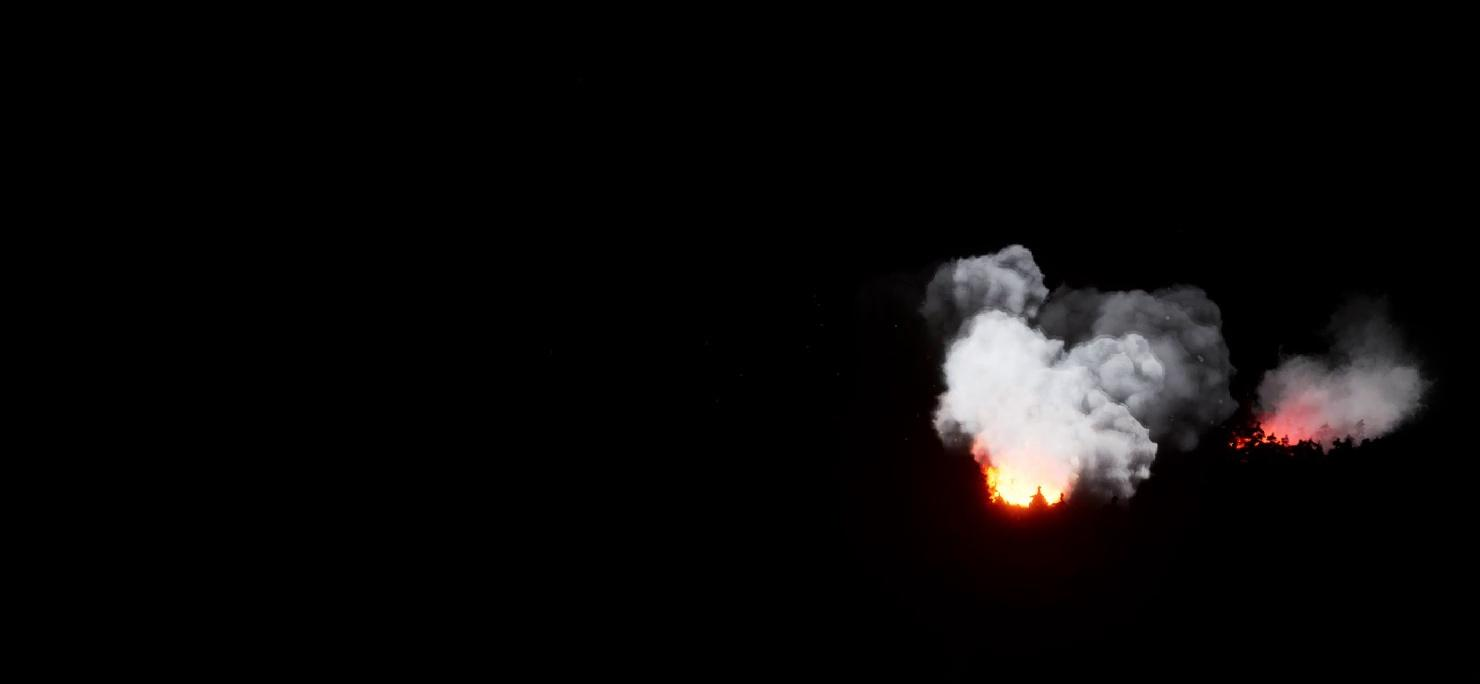fire: (968, 447, 1078, 511), (1240, 411, 1337, 445)
smoke: (922, 232, 1214, 493), (1263, 319, 1422, 442)
